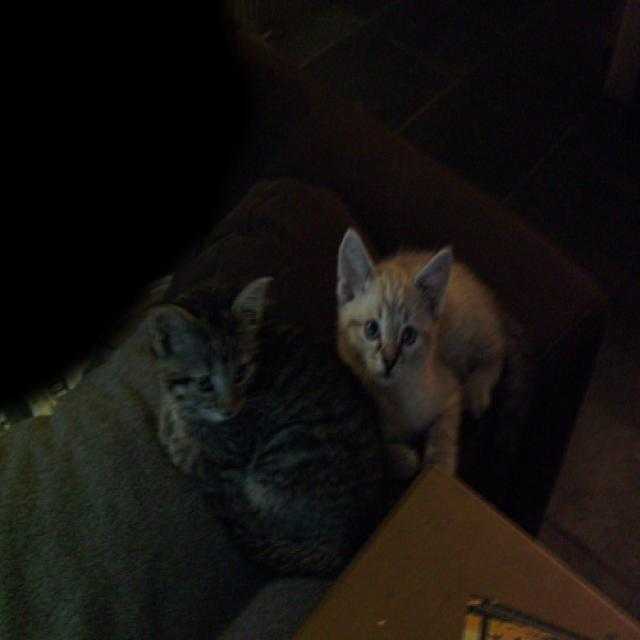Cat: (130, 272, 392, 583), (322, 216, 543, 509)
